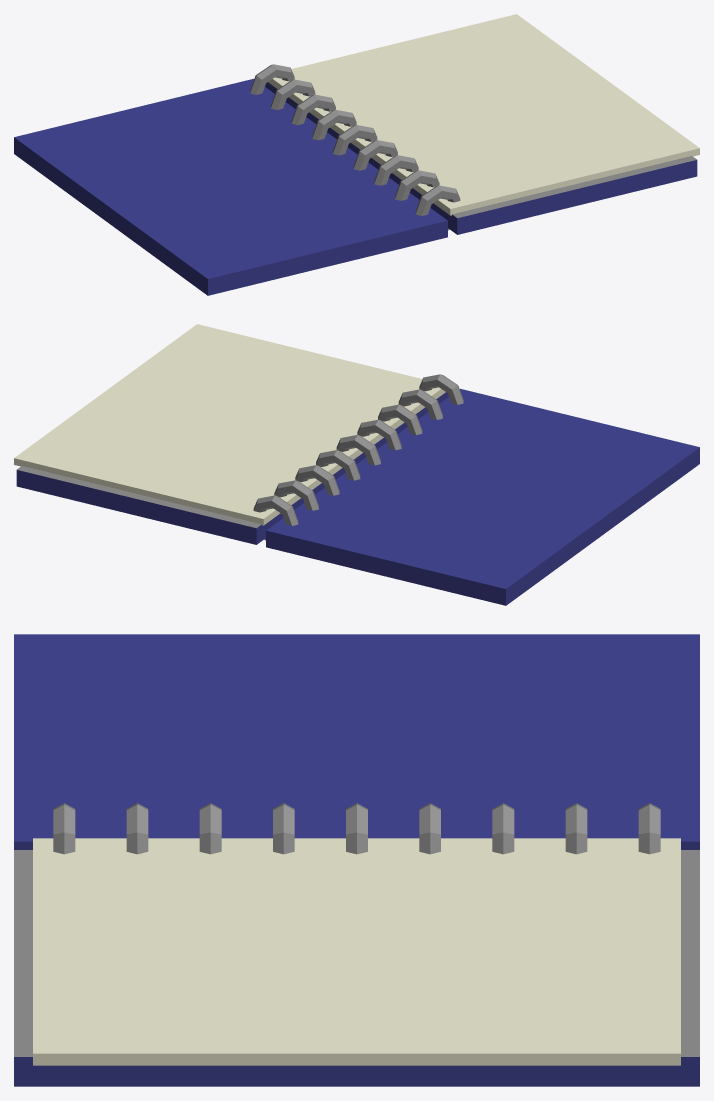
Rendered from notebook.gltf.
3 views of the same model, one above another, from view 1: azimuth 30°, elevation 25°; view 2: azimuth 150°, elevation 25°; view 3: azimuth 270°, elevation 25° (orthographic). The views are drawn at different scales.
Parts seen in each view (by area): view 1: cover (×2), pages, spiral-ring-9, spiral-ring-1, spiral-ring-3, spiral-ring-4, spiral-ring-5, spiral-ring-6, spiral-ring-7, spiral-ring-8, spiral-ring-2; view 2: cover (×2), pages, spiral-ring-1, spiral-ring-9, spiral-ring-3, spiral-ring-4, spiral-ring-5, spiral-ring-6, spiral-ring-7, spiral-ring-2, spiral-ring-8; view 3: cover (×2), pages, spiral-ring-2, spiral-ring-8, spiral-ring-1, spiral-ring-3, spiral-ring-7, spiral-ring-9, spiral-ring-4, spiral-ring-6, spiral-ring-5.
Part boxes in pixels (bbox=[...]): cover (×2): bbox=[14, 78, 697, 295]; pages: bbox=[268, 14, 699, 215]; spiral-ring-9: bbox=[415, 185, 460, 230]; spiral-ring-1: bbox=[250, 64, 294, 94]; spiral-ring-3: bbox=[291, 94, 335, 125]; spiral-ring-4: bbox=[312, 109, 356, 140]; spiral-ring-5: bbox=[333, 125, 377, 155]; spiral-ring-6: bbox=[353, 140, 397, 170]; spiral-ring-7: bbox=[374, 155, 418, 185]; spiral-ring-8: bbox=[395, 170, 439, 200]; spiral-ring-2: bbox=[271, 79, 315, 109]; cover (×2): bbox=[16, 388, 699, 605]; pages: bbox=[14, 324, 445, 525]; spiral-ring-1: bbox=[253, 495, 298, 540]; spiral-ring-9: bbox=[419, 374, 463, 404]; spiral-ring-3: bbox=[295, 465, 339, 495]; spiral-ring-4: bbox=[316, 450, 360, 480]; spiral-ring-5: bbox=[336, 435, 380, 465]; spiral-ring-6: bbox=[357, 419, 401, 450]; spiral-ring-7: bbox=[378, 404, 422, 435]; spiral-ring-2: bbox=[274, 480, 318, 510]; spiral-ring-8: bbox=[398, 389, 442, 419]; cover (×2): bbox=[14, 634, 699, 1086]; pages: bbox=[33, 838, 680, 1065]; spiral-ring-2: bbox=[565, 803, 587, 854]; spiral-ring-8: bbox=[126, 803, 148, 854]; spiral-ring-1: bbox=[638, 803, 660, 854]; spiral-ring-3: bbox=[492, 803, 514, 854]; spiral-ring-7: bbox=[199, 803, 221, 854]; spiral-ring-9: bbox=[53, 803, 75, 854]; spiral-ring-4: bbox=[419, 803, 440, 854]; spiral-ring-6: bbox=[273, 803, 294, 854]; spiral-ring-5: bbox=[346, 803, 367, 854].
Bounding box in the file's own units: 0.9719 × 0.094 × 0.6562.
Materials: 1 (1 with a texture image).
